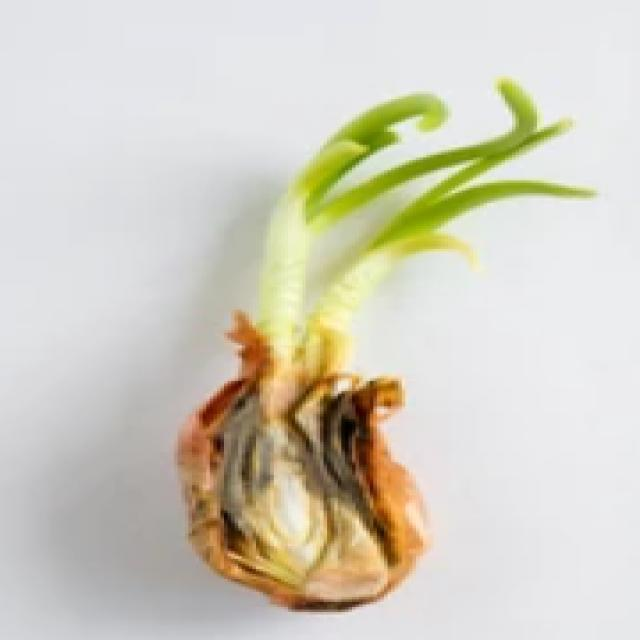rotten: (210, 376, 373, 572)
sprouting: (266, 130, 362, 368)
